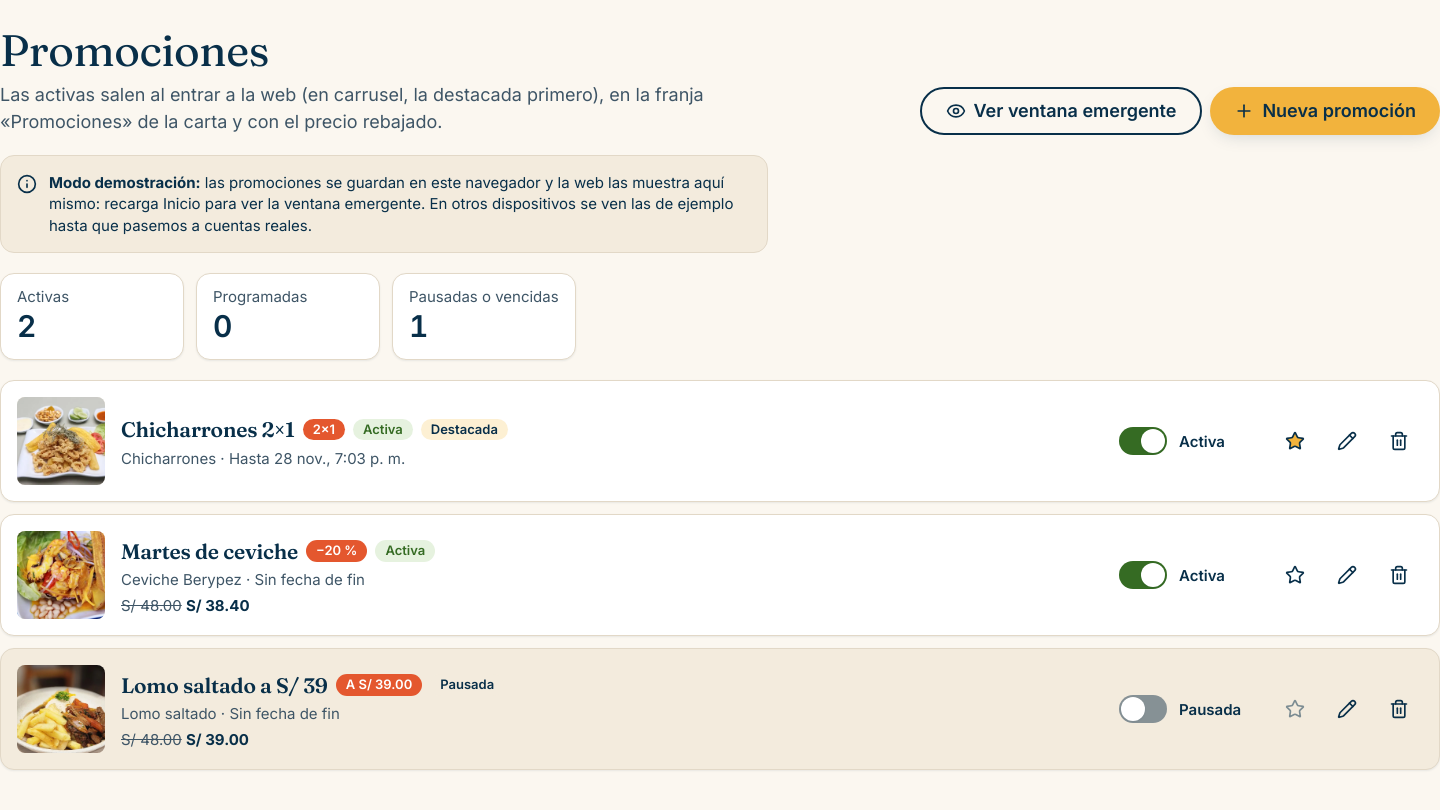
Test: Promociones (modo demostración) › crea una promoción de porcentaje con título sugerido
Later steps or results of the test are not shown.
expect the heading "Chicharrones 2×1" is shown: met, box [121,413,295,446]
Click the button "Nueva promoción".
click(1325, 111)  # box [1210,87,1439,135]
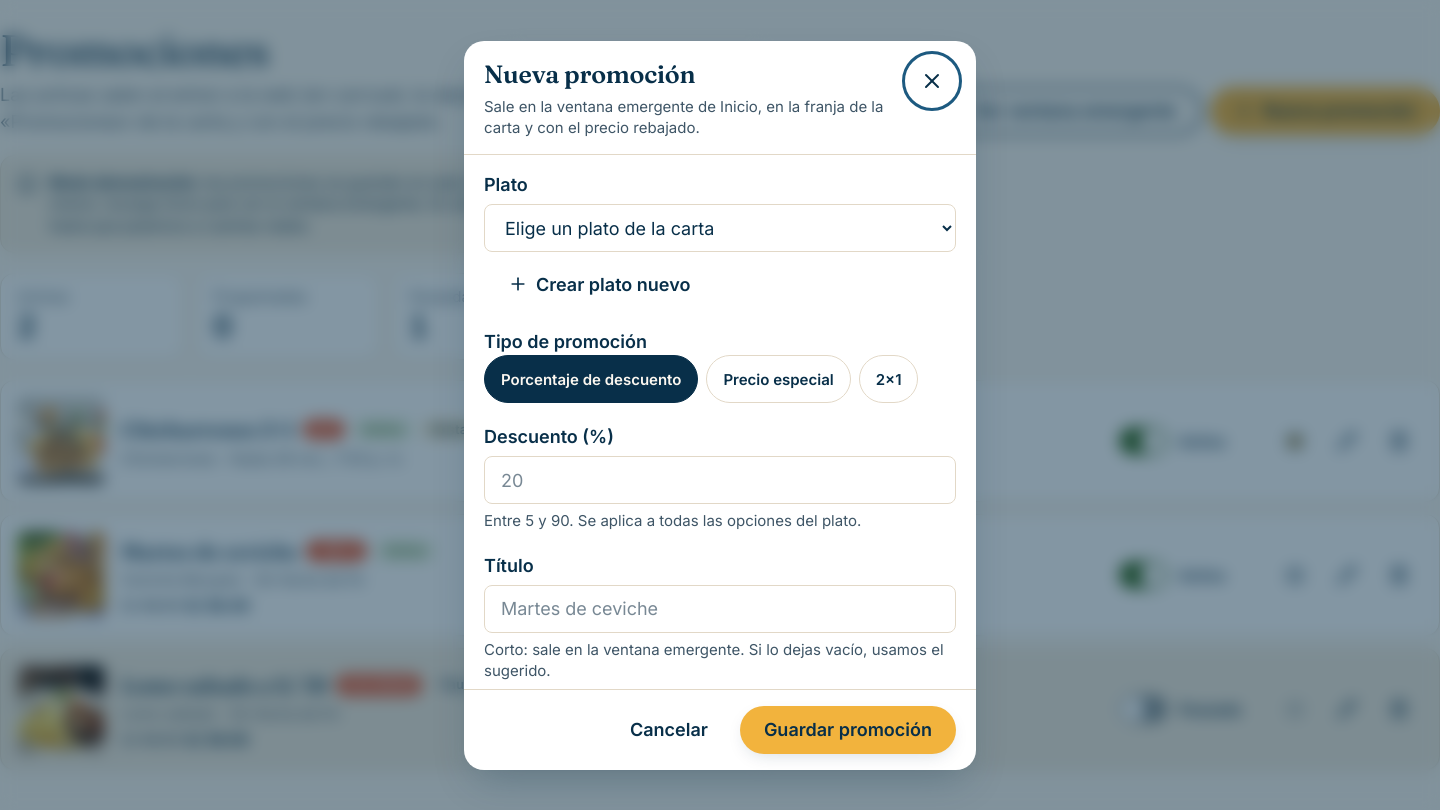
Select "Arroz con mariscos" in the dropdown labelled "Plato" at {"x": 720, "y": 228}, box [484,204,956,252]
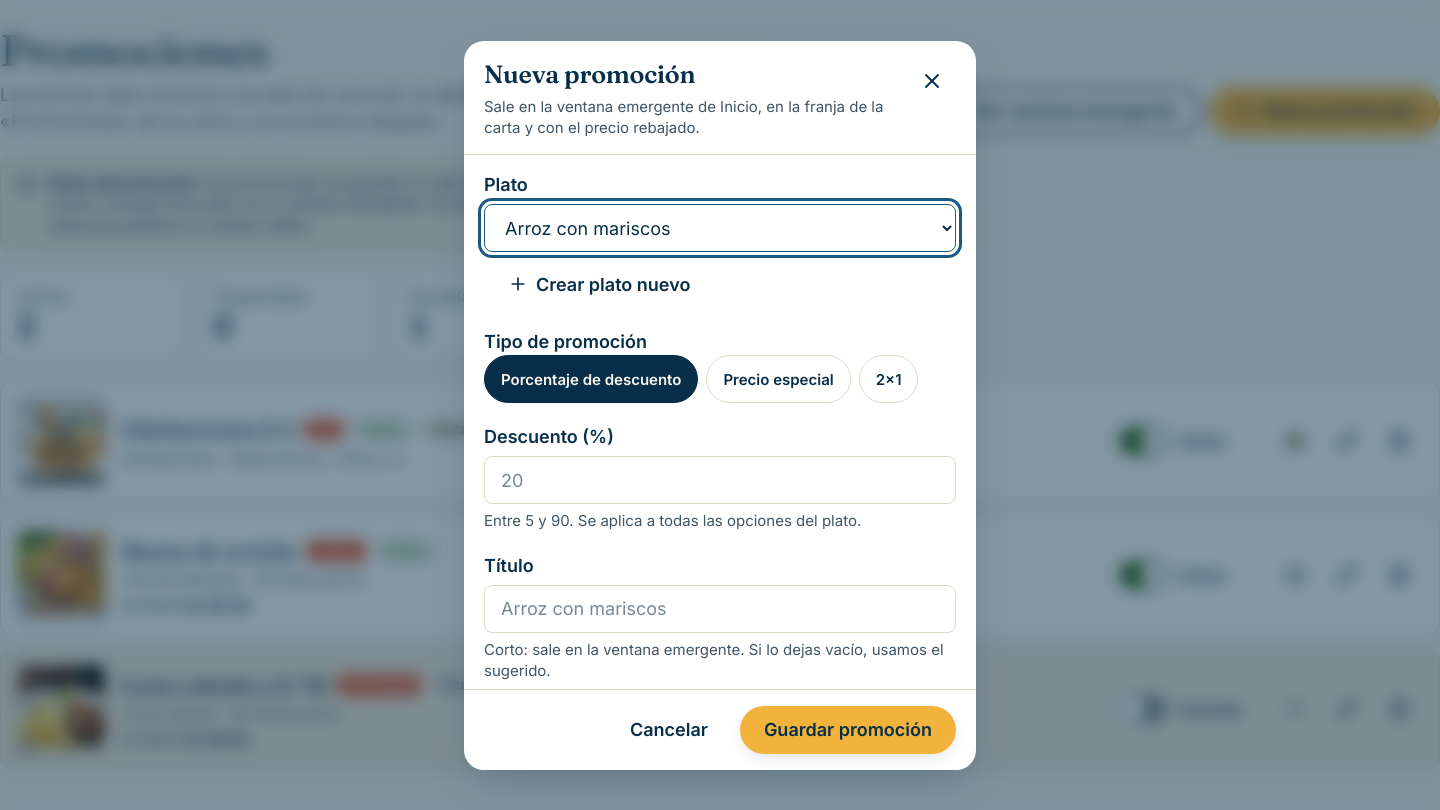
Type "15" into the field labelled "Descuento (%)".
click(720, 480); type("15")  # box [484,456,956,504]
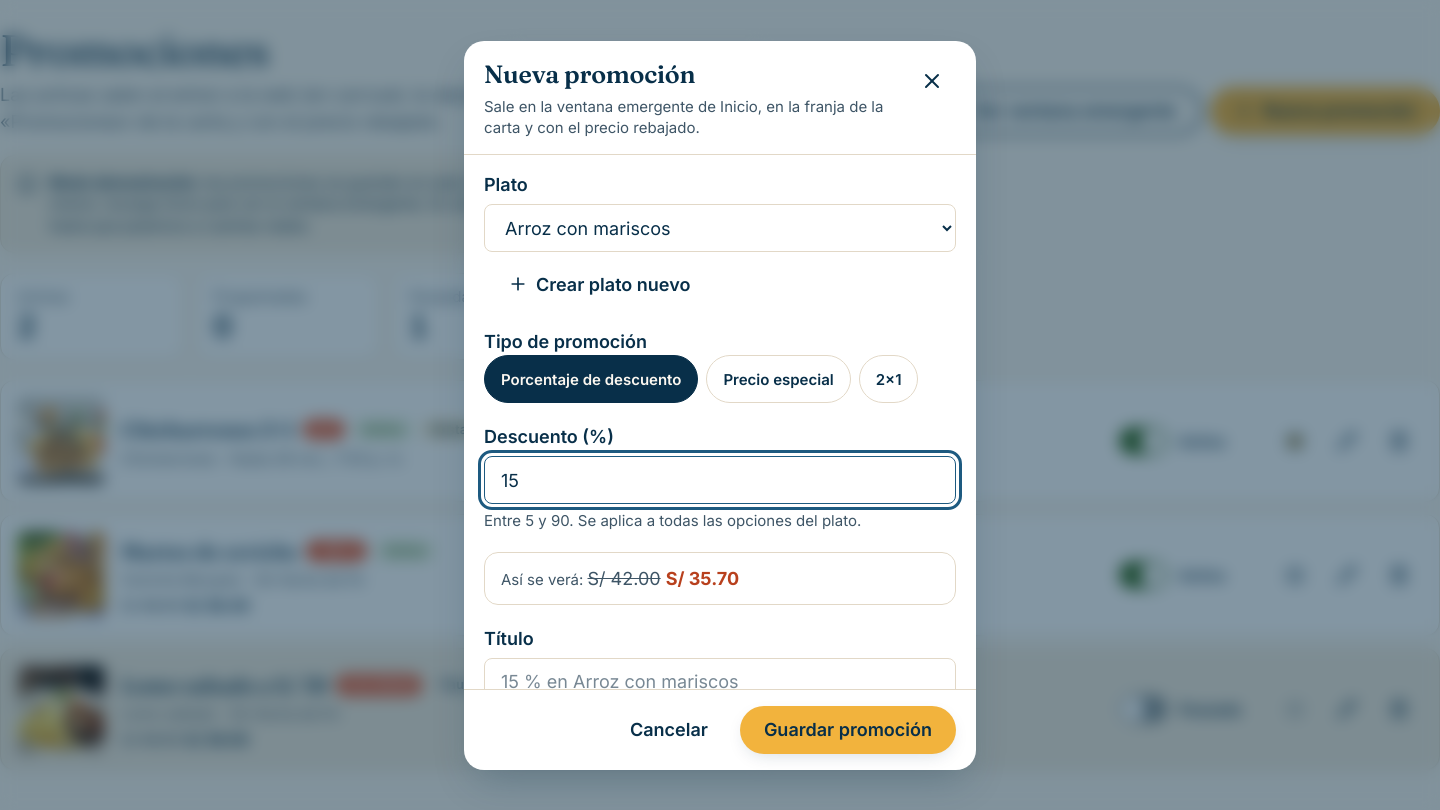
expect the text "S/ 35.70" is shown: met, box [666,568,739,589]
